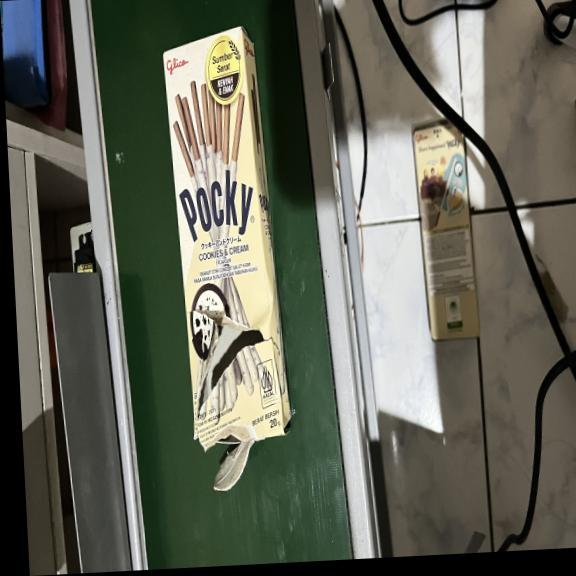Kertas: (159, 24, 285, 448)
